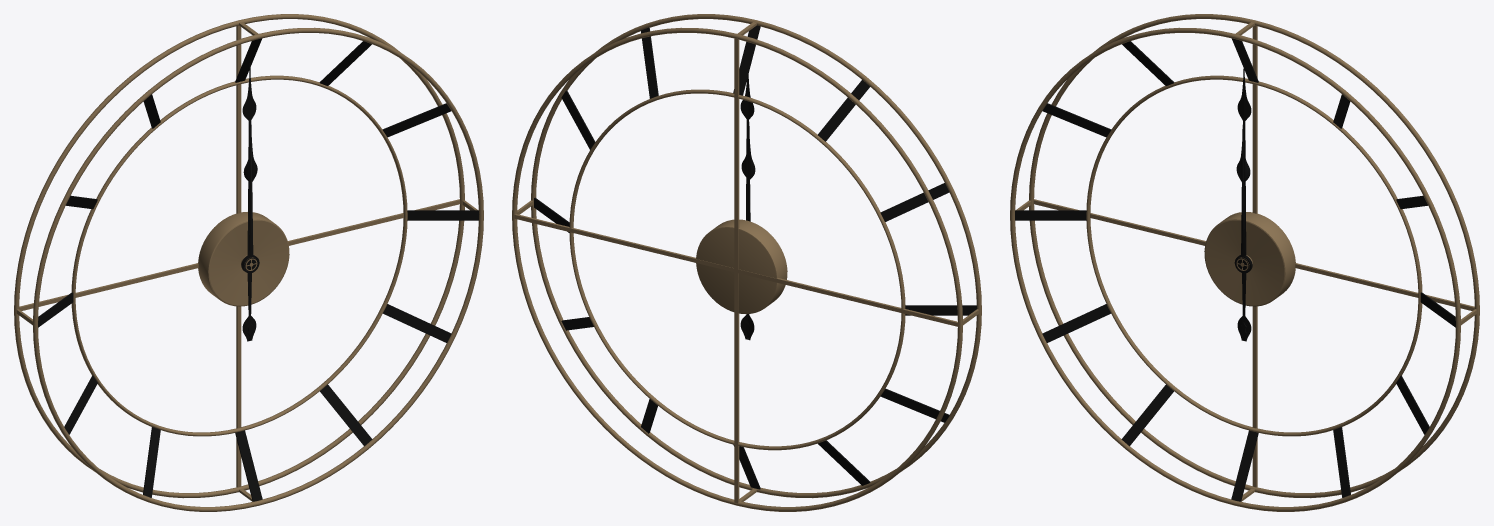
Rendered from wall_clock.fbx.
3 renders of one model, left to right at view 1: azimuth 30°, elevation 25°; view 2: azimuth 150°, elevation 25°; view 3: azimuth 330°, elevation 25°, orthographic.
Parts seen in each view (by area): view 1: Box004, min_hand, hour_hand; view 2: Box004, min_hand; view 3: Box004, min_hand, hour_hand.
Boxes of the visible parts, x1=… form: Box004: x1=14, y1=14, x2=483, y2=511; min_hand: x1=241, y1=63, x2=256, y2=341; hour_hand: x1=242, y1=124, x2=259, y2=273; Box004: x1=512, y1=14, x2=981, y2=511; min_hand: x1=740, y1=74, x2=754, y2=340; Box004: x1=1010, y1=14, x2=1479, y2=511; min_hand: x1=1237, y1=63, x2=1252, y2=341; hour_hand: x1=1234, y1=124, x2=1251, y2=273.
Size of the model in its own units: 60.6 by 60.6 by 5.
